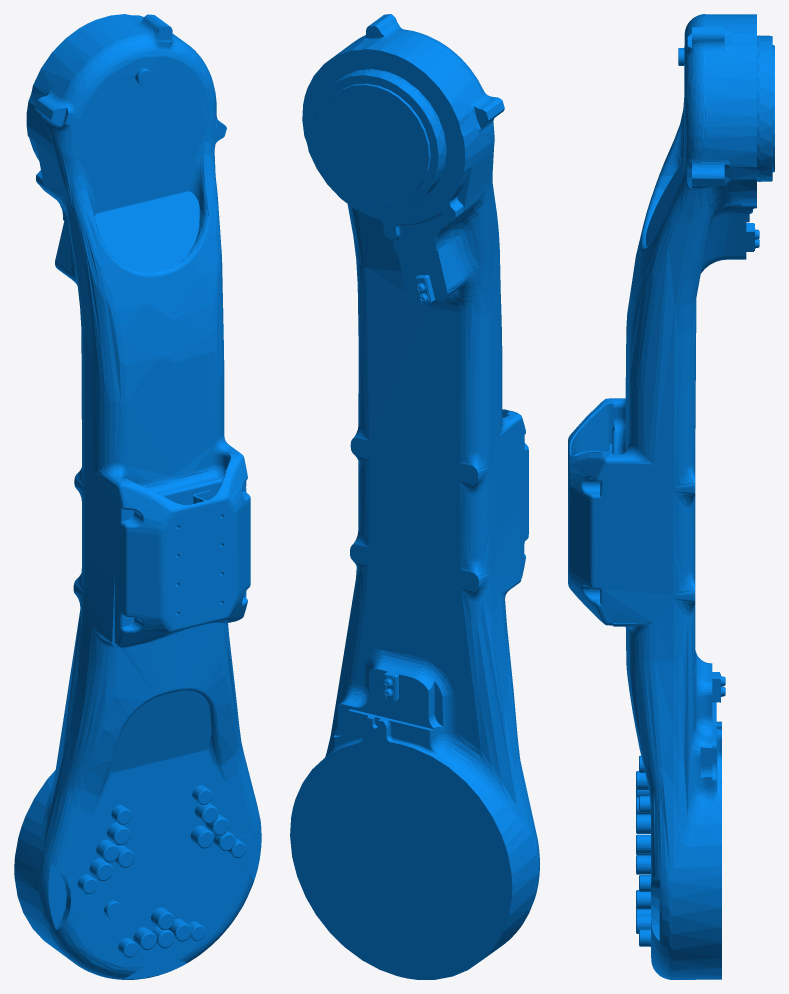
The model's file is l_axis.dae.
3 views of the same model, side by side, from view 1: azimuth 30°, elevation 25°; view 2: azimuth 150°, elevation 25°; view 3: azimuth 270°, elevation 25° (orthographic).
Parts seen in each view (by area): view 1: L_Axis; view 2: L_Axis; view 3: L_Axis.
Part boxes in pixels (x1,y1,x2,y2): L_Axis: [14, 14, 261, 979]; L_Axis: [290, 14, 539, 979]; L_Axis: [568, 14, 774, 979].
Size of the model in its own units: 0.2399 by 0.192 by 0.9758.
